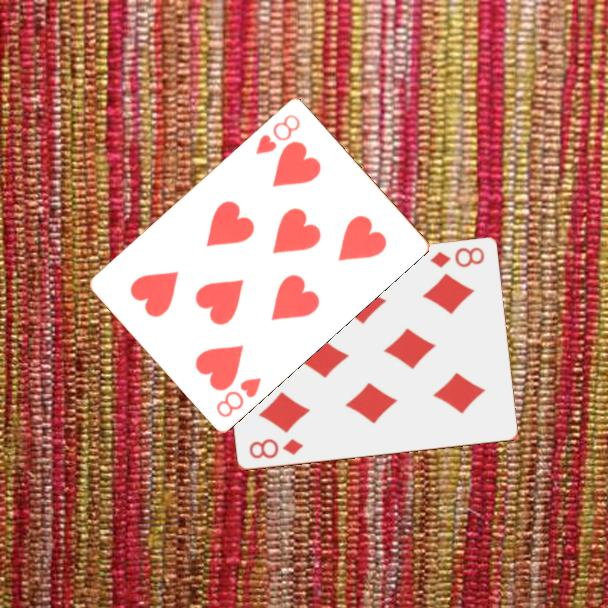d08: (245, 435, 306, 462), (426, 244, 487, 271)
h08: (212, 373, 264, 420), (252, 110, 303, 157)
